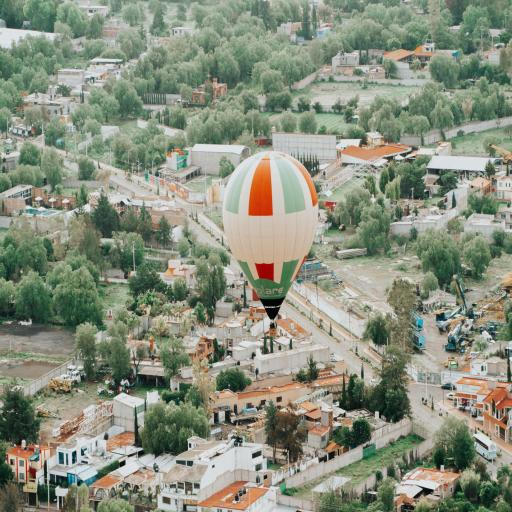hot air ballon: (222, 153, 320, 339)
